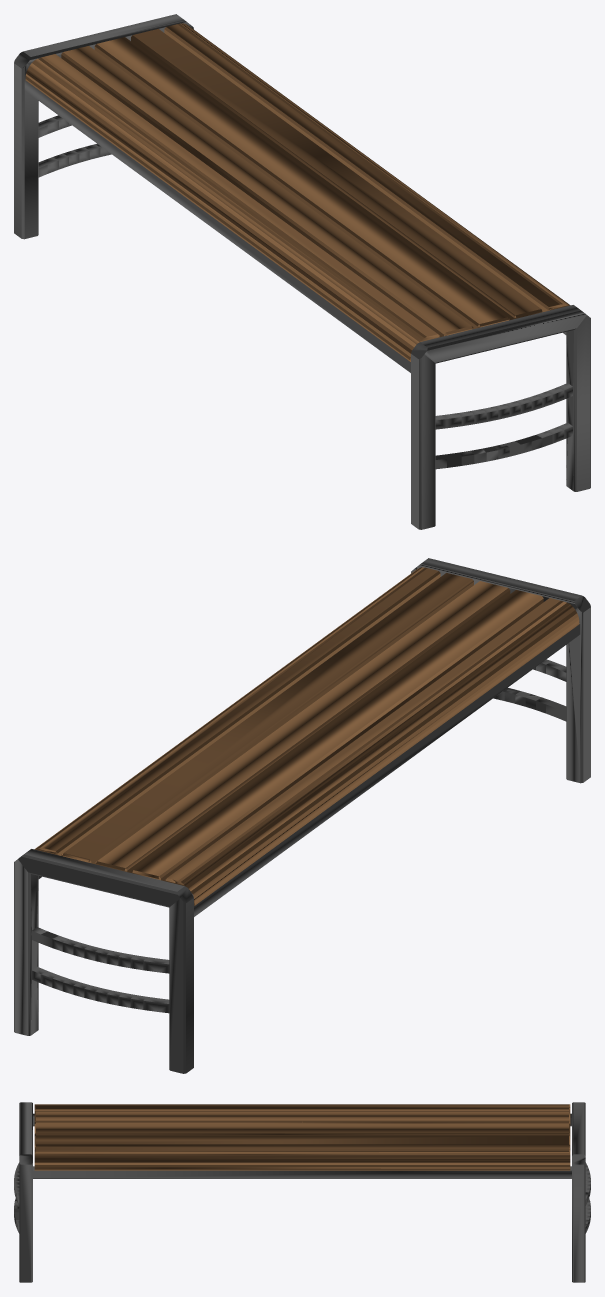
3 views of the same model, one above another, from view 1: azimuth 30°, elevation 25°; view 2: azimuth 150°, elevation 25°; view 3: azimuth 270°, elevation 25° (orthographic). The views are drawn at different scales.
Visible parts, largest first — view 1: B_24; view 2: B_24; view 3: B_24.
Boxes of the visible parts, left/top/right/bottom form: B_24: left=14, top=14, right=590, bottom=529; B_24: left=14, top=558, right=590, bottom=1073; B_24: left=14, top=1102, right=590, bottom=1282.
Size of the model in its own units: 48.8 by 48.75 by 204.
